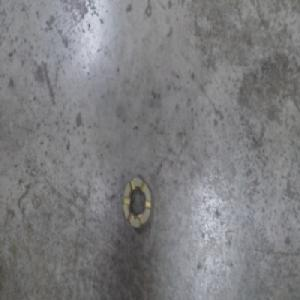Nut: (122, 172, 154, 231)
